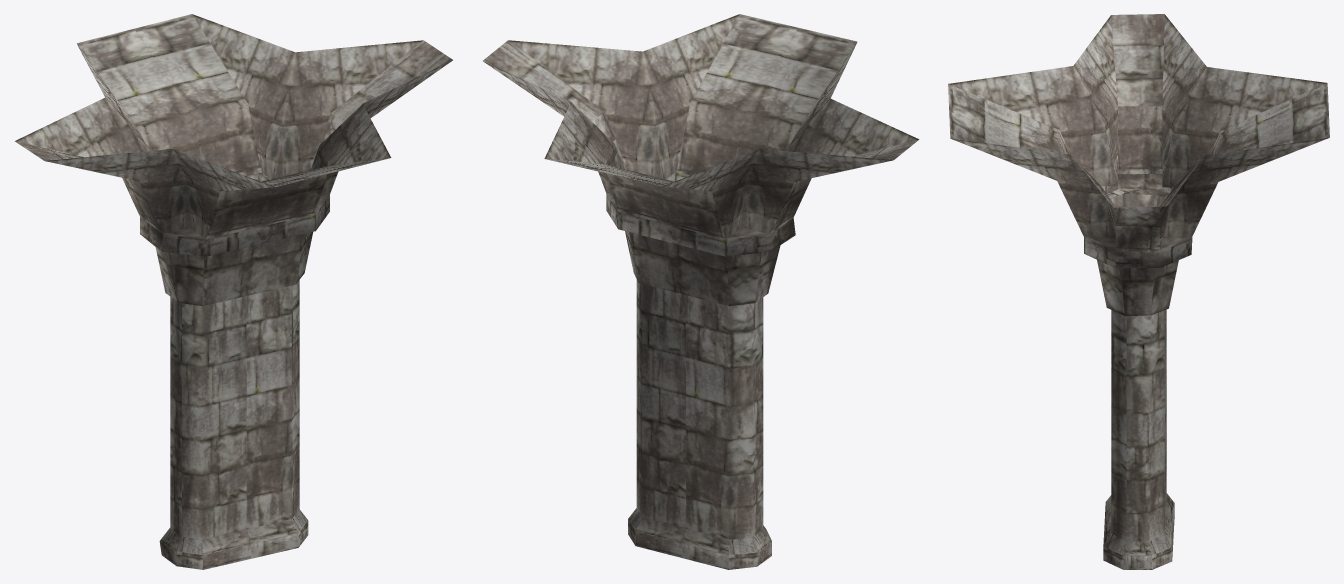
The model's file is ornate_pillar_full_wide.glb.
The picture shows the model from 3 angles, left to right: view 1: azimuth 30°, elevation 25°; view 2: azimuth 150°, elevation 25°; view 3: azimuth 270°, elevation 25°; orthographic projection. The views are drawn at different scales.
Parts seen in each view (by area): view 1: ornate_pillar_full_wide; view 2: ornate_pillar_full_wide; view 3: ornate_pillar_full_wide.
Boxes of the visible parts, x1,y1,x2,y2 form: ornate_pillar_full_wide: [15, 14, 452, 569]; ornate_pillar_full_wide: [483, 14, 919, 569]; ornate_pillar_full_wide: [948, 14, 1329, 569].
Bounding box in the file's own units: 9.02 × 9.3 × 7.52.
1 material, 1 textured.
